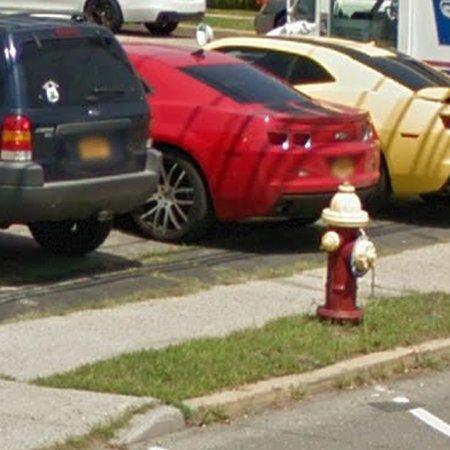a fire hydrant: (317, 183, 377, 324)
